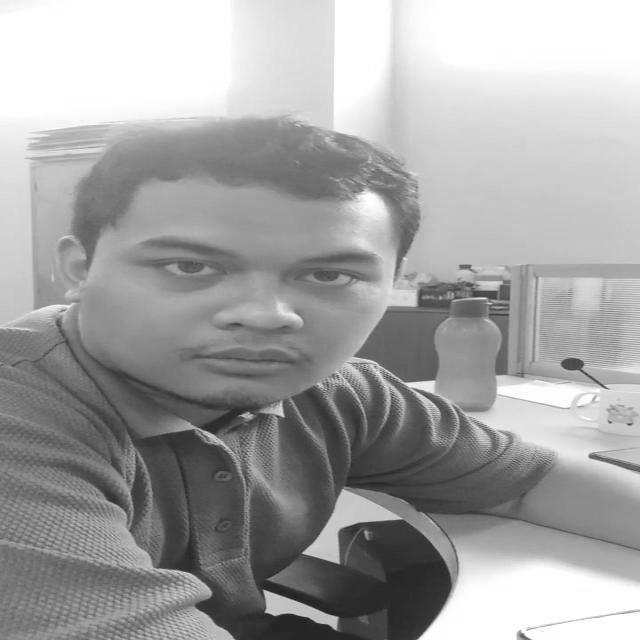real: (78, 186, 402, 406)
